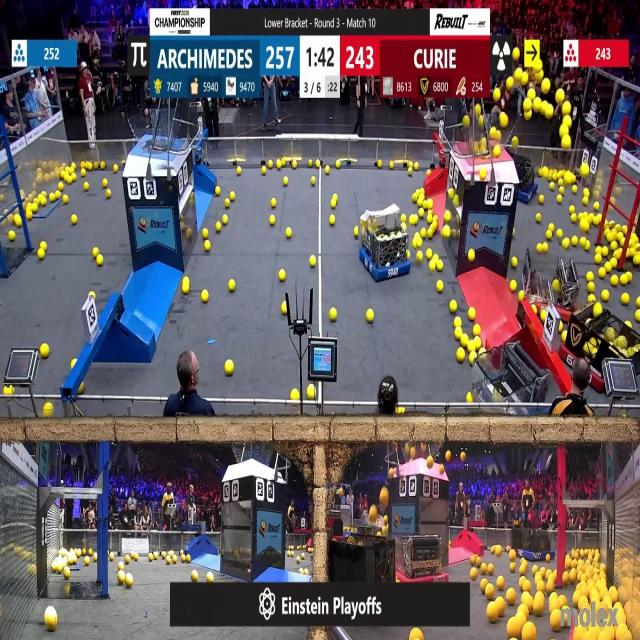ball_airborne: (380, 489, 390, 506), (542, 103, 552, 119), (540, 79, 549, 94), (556, 91, 565, 105), (500, 112, 508, 127), (562, 136, 571, 149), (368, 508, 376, 522), (532, 60, 541, 72), (532, 99, 540, 112), (563, 102, 571, 115), (514, 47, 522, 60), (582, 165, 590, 178), (522, 71, 529, 85), (494, 90, 501, 103), (588, 282, 596, 293), (524, 100, 532, 111), (563, 115, 571, 126), (516, 69, 524, 80), (566, 173, 574, 184), (602, 290, 609, 302), (472, 142, 479, 154), (524, 110, 532, 120), (593, 301, 599, 314), (491, 128, 498, 139), (493, 146, 500, 157), (411, 447, 417, 459), (528, 90, 535, 100), (536, 70, 543, 80), (463, 115, 469, 126), (506, 77, 512, 88), (481, 170, 487, 181), (479, 115, 485, 126), (474, 105, 480, 115), (514, 137, 520, 147), (560, 126, 566, 136), (427, 457, 433, 467), (460, 452, 466, 462), (439, 465, 445, 475), (447, 451, 452, 461), (386, 470, 391, 480), (482, 138, 487, 146), (384, 517, 389, 524), (585, 188, 590, 195)
ball_ground: (44, 610, 56, 631), (533, 595, 544, 616), (522, 624, 536, 640), (551, 612, 562, 632), (488, 602, 498, 622), (43, 404, 52, 420), (410, 629, 423, 640), (224, 360, 233, 374), (40, 344, 49, 358), (486, 586, 495, 600), (506, 590, 514, 605), (521, 593, 531, 605), (458, 349, 466, 362), (126, 574, 134, 587), (450, 302, 458, 314), (308, 386, 316, 398), (460, 336, 468, 348), (469, 567, 477, 579), (558, 596, 566, 608), (329, 309, 336, 322), (365, 310, 372, 323), (202, 289, 209, 302), (522, 582, 531, 592), (472, 324, 480, 335), (290, 388, 298, 399), (622, 293, 630, 304), (610, 276, 618, 287), (454, 327, 462, 338), (582, 220, 590, 231), (116, 572, 124, 583), (562, 571, 570, 582), (445, 211, 452, 223), (444, 225, 451, 237), (227, 280, 234, 292), (473, 338, 480, 350), (626, 274, 633, 286), (562, 240, 570, 250), (593, 215, 601, 225), (609, 258, 617, 268), (468, 309, 474, 322), (498, 575, 504, 588), (511, 281, 518, 292), (207, 571, 214, 582), (37, 249, 44, 260), (426, 249, 433, 260), (285, 229, 292, 240), (14, 216, 21, 227), (282, 303, 288, 315), (512, 256, 518, 268), (468, 249, 474, 261), (436, 281, 442, 293), (203, 230, 210, 240), (571, 237, 578, 247), (428, 263, 435, 273), (602, 246, 609, 256), (279, 271, 285, 282), (182, 283, 188, 294), (417, 251, 423, 262), (191, 570, 197, 581), (585, 240, 591, 251), (416, 238, 422, 249), (470, 353, 476, 364), (8, 233, 15, 242), (595, 254, 602, 263), (411, 215, 418, 224), (93, 248, 100, 257), (6, 386, 13, 395), (466, 392, 472, 402), (98, 255, 104, 265), (310, 256, 316, 266), (205, 242, 211, 252), (106, 188, 112, 198), (599, 269, 605, 279), (455, 317, 461, 327), (538, 193, 544, 203), (64, 568, 70, 578), (519, 290, 525, 300), (421, 228, 427, 238), (270, 215, 276, 225), (634, 254, 640, 264), (557, 230, 563, 240), (419, 208, 425, 218), (426, 200, 432, 210), (413, 192, 419, 202), (610, 242, 616, 252), (594, 202, 600, 212), (520, 564, 526, 574), (511, 552, 517, 562), (482, 564, 488, 574), (55, 190, 62, 198), (635, 311, 640, 322), (488, 563, 493, 574), (78, 383, 83, 394), (588, 273, 594, 282), (571, 214, 577, 223), (544, 232, 550, 241), (271, 199, 277, 208), (330, 200, 336, 209), (427, 230, 433, 239), (589, 293, 595, 302), (579, 238, 585, 247), (231, 191, 237, 200), (449, 188, 455, 197), (27, 211, 33, 220), (511, 563, 517, 572), (88, 163, 94, 172), (40, 198, 46, 207), (534, 566, 540, 575), (222, 215, 227, 225), (437, 263, 442, 273), (542, 243, 547, 253), (418, 198, 423, 208), (40, 242, 46, 250), (59, 182, 65, 190), (63, 194, 69, 202), (80, 169, 86, 177), (83, 558, 89, 566), (49, 192, 55, 200), (596, 246, 602, 254), (547, 182, 553, 190), (569, 206, 575, 214), (269, 162, 275, 170), (426, 214, 432, 222), (546, 222, 552, 230), (276, 162, 282, 170), (108, 554, 114, 562), (544, 555, 550, 563), (72, 215, 77, 224), (216, 222, 221, 231), (215, 186, 220, 195), (103, 179, 108, 188), (327, 165, 332, 174), (354, 229, 359, 238), (536, 244, 541, 253), (400, 214, 405, 223), (72, 359, 77, 368), (584, 198, 589, 207), (556, 195, 562, 202), (331, 192, 337, 199), (83, 182, 88, 190), (329, 216, 334, 224), (237, 168, 242, 176), (101, 162, 106, 170), (263, 166, 268, 174), (636, 296, 640, 306), (224, 200, 229, 208), (120, 562, 125, 570), (337, 162, 342, 170), (378, 162, 383, 170), (316, 162, 321, 170), (415, 164, 420, 172), (562, 334, 566, 344), (432, 215, 437, 223), (33, 205, 38, 213), (163, 552, 168, 560), (284, 177, 288, 186), (312, 177, 316, 186), (308, 162, 314, 168), (186, 230, 190, 239), (167, 558, 173, 564), (148, 555, 153, 562), (426, 170, 431, 177), (91, 290, 96, 297), (71, 164, 76, 171), (536, 214, 540, 222), (292, 162, 296, 170), (387, 160, 391, 168), (186, 555, 190, 563), (560, 185, 564, 193), (492, 545, 496, 553), (113, 166, 117, 173), (409, 169, 413, 176), (72, 175, 76, 182), (80, 163, 84, 170), (298, 568, 302, 574), (306, 568, 309, 575), (296, 558, 299, 564)
goal: (128, 115, 186, 152)
robot_blue: (359, 211, 412, 282), (502, 346, 555, 414), (496, 148, 540, 204), (512, 520, 552, 561)
robot_red: (578, 308, 638, 397), (398, 535, 446, 585)
